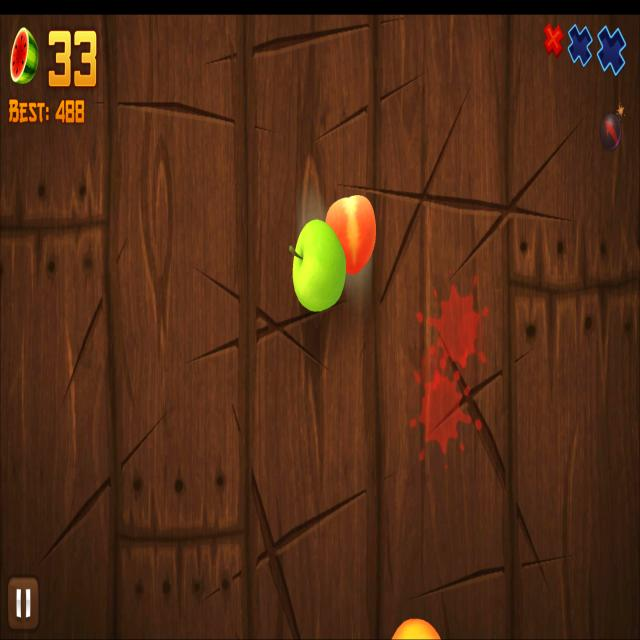fruit: (292, 219, 346, 314), (326, 193, 378, 274), (391, 617, 442, 640)
